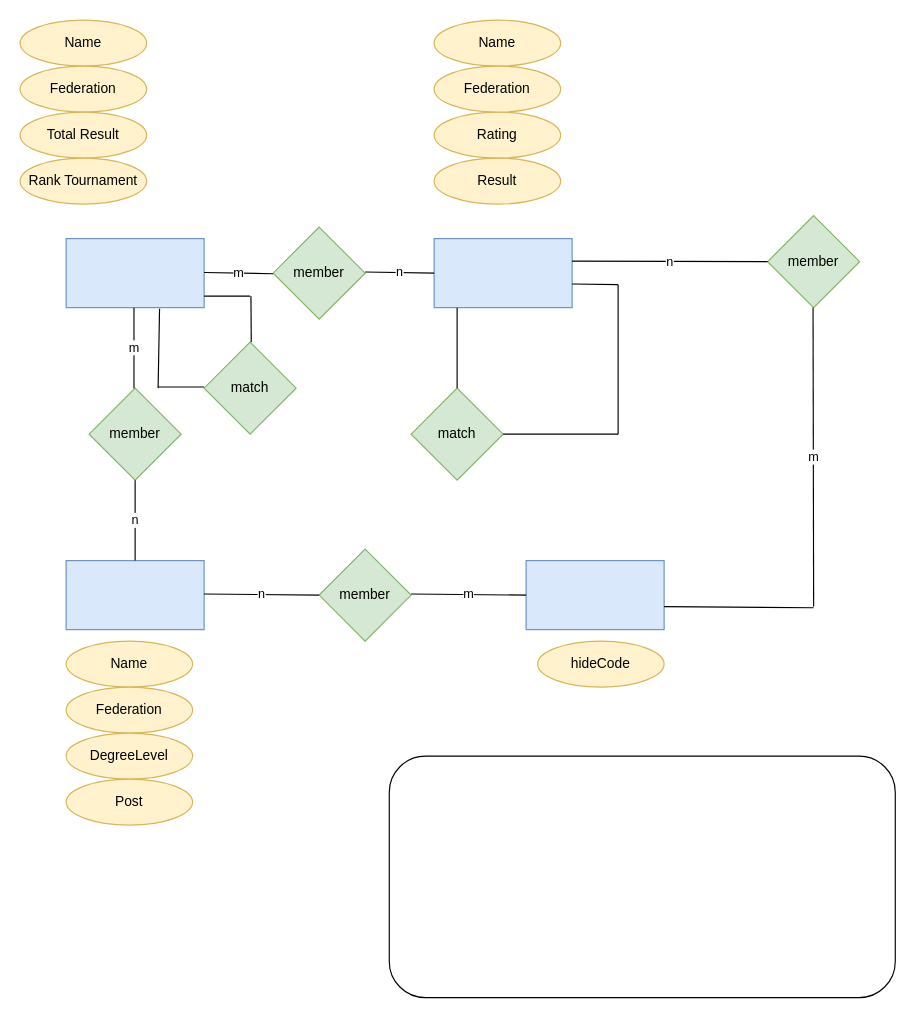
Some shapes in this 915 by 1018 pixel diagram are drawn without their labels. Here are the shapes that lost their labels. From the top down, the box of each, then its label:
(65, 237, 204, 308): Team
(433, 237, 572, 308): Player
(65, 559, 204, 630): Arbiter
(525, 559, 664, 630): Jury
(388, 755, 895, 998): CTMS (Chess Tournaments Management System) Seyed Ali Sajjadi Reza Jokar
